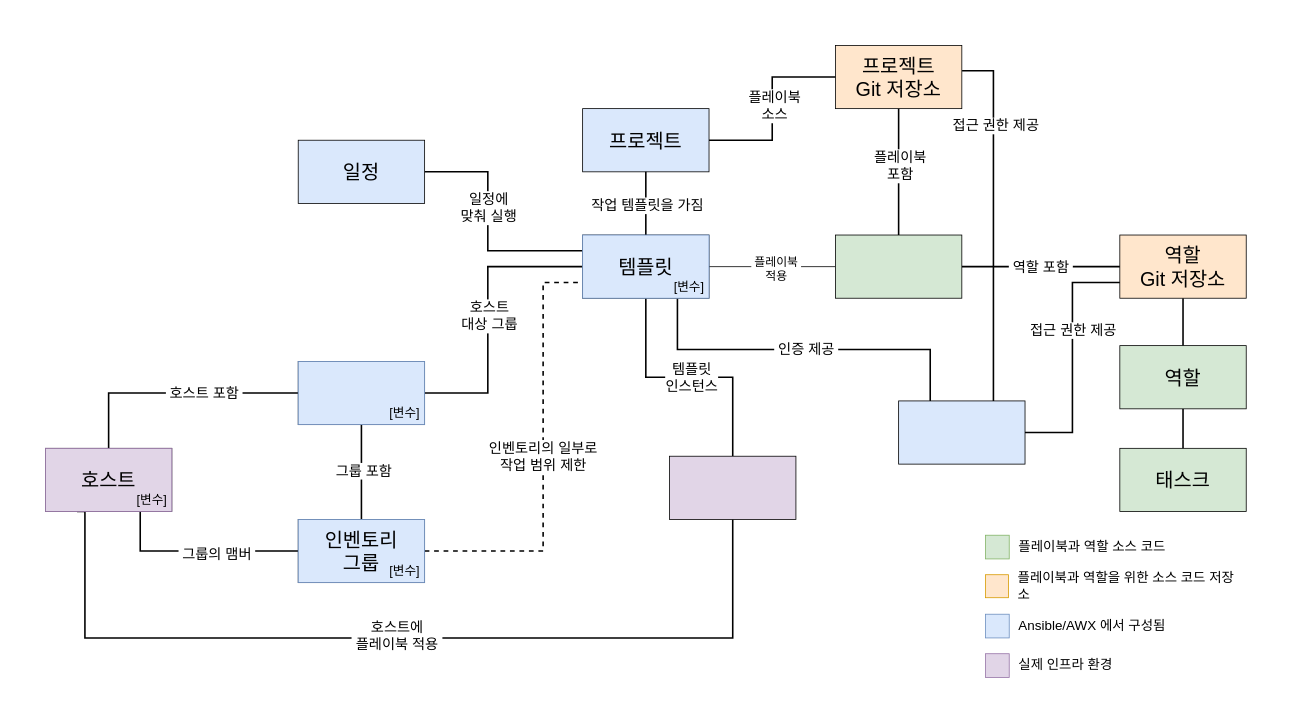
Some shapes in this 1291 by 714 pixel diagram are drawn without their labels. Each missing label, with the box of its shape:
인벤토리: (297, 361, 425, 425)
인스턴스: (669, 455, 796, 519)
인증 정보: (898, 400, 1025, 464)
플레이북: (835, 234, 962, 298)
